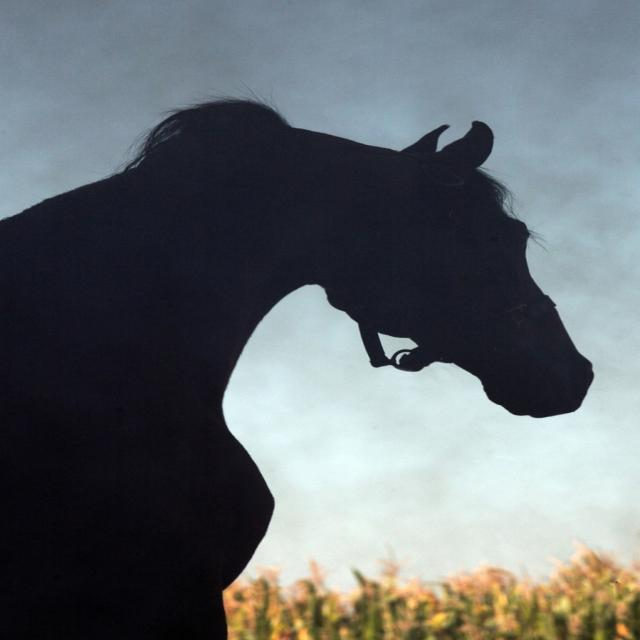Horse: (0, 91, 594, 639)
